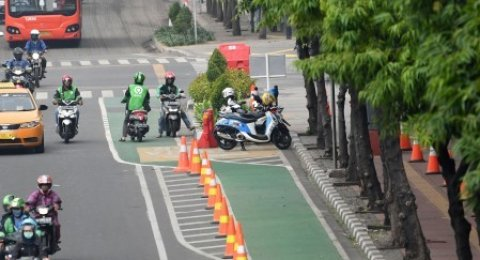car: (1, 86, 50, 153)
motorbike: (29, 176, 65, 256), (157, 71, 188, 140), (125, 72, 152, 144), (56, 75, 83, 146), (3, 195, 31, 259), (1, 48, 34, 99), (22, 28, 47, 85)
